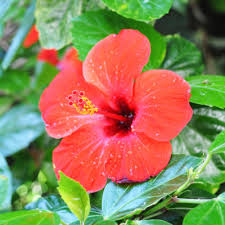hybiscus: (38, 29, 192, 192)
